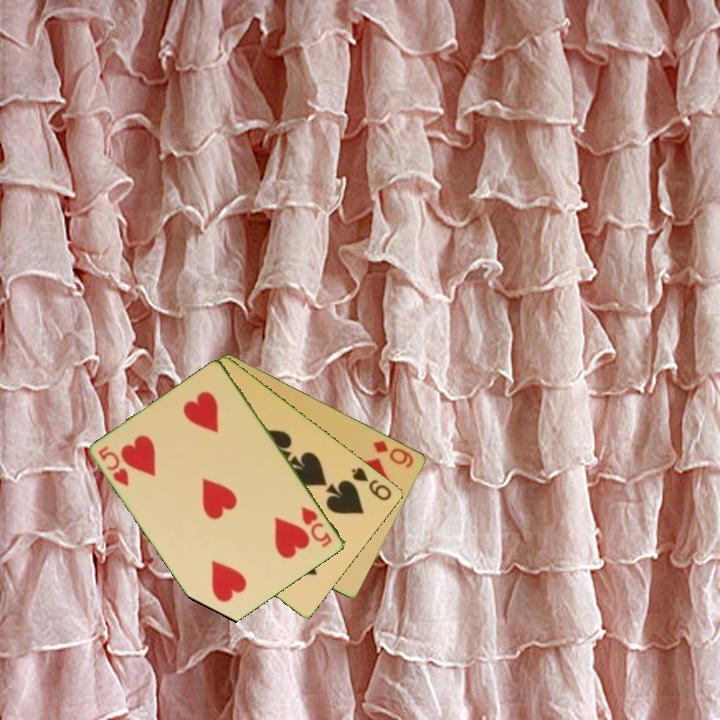5h: (298, 503, 335, 550), (95, 442, 132, 489)
6d: (370, 437, 417, 471)
9s: (348, 464, 395, 504)
